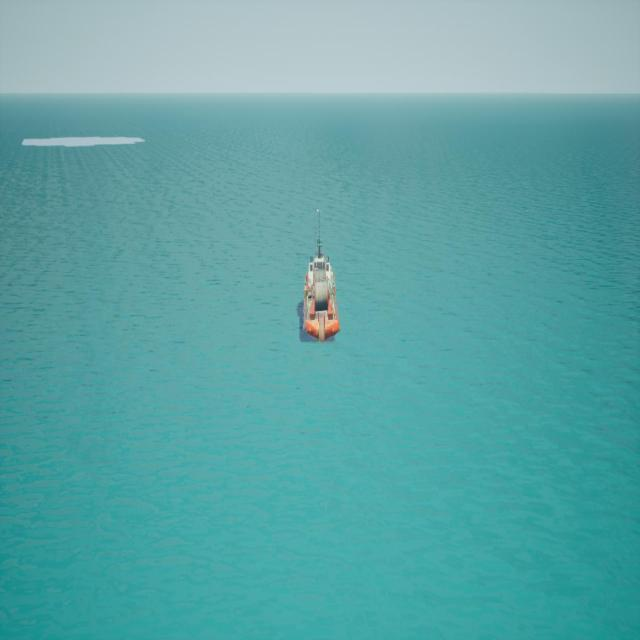tug boat: (301, 210, 340, 346)
